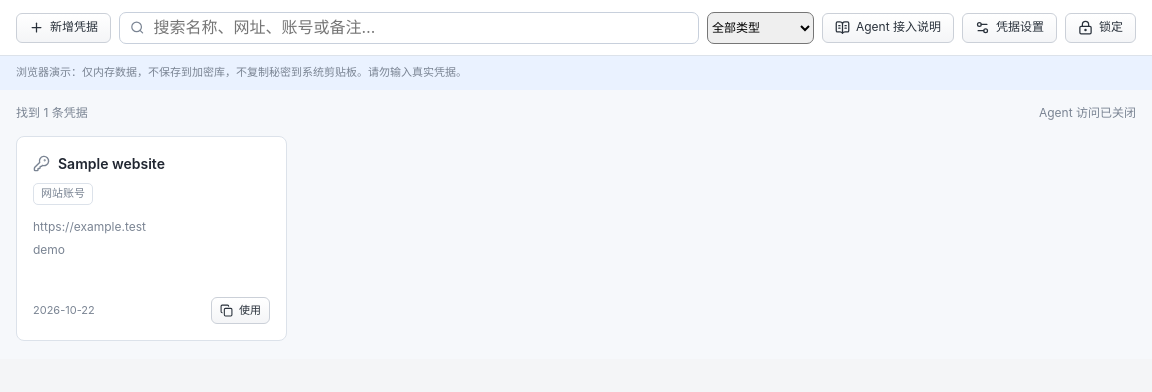
Scenario: credential user flows › copies only a freshly checked record locator without reading a secret or granting access
Click the button "使用" at (240, 311), box [211,297,270,324]
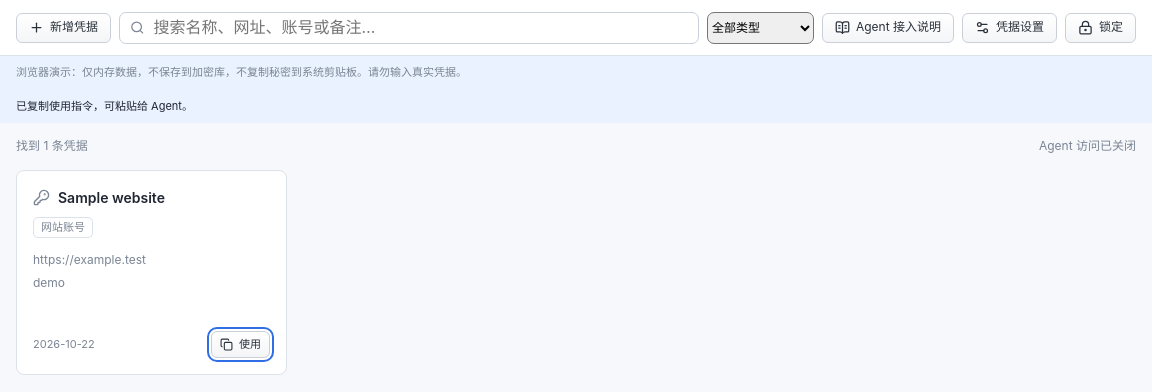
Check: the message shows "已复制使用指令", box [16,99,193,113]
